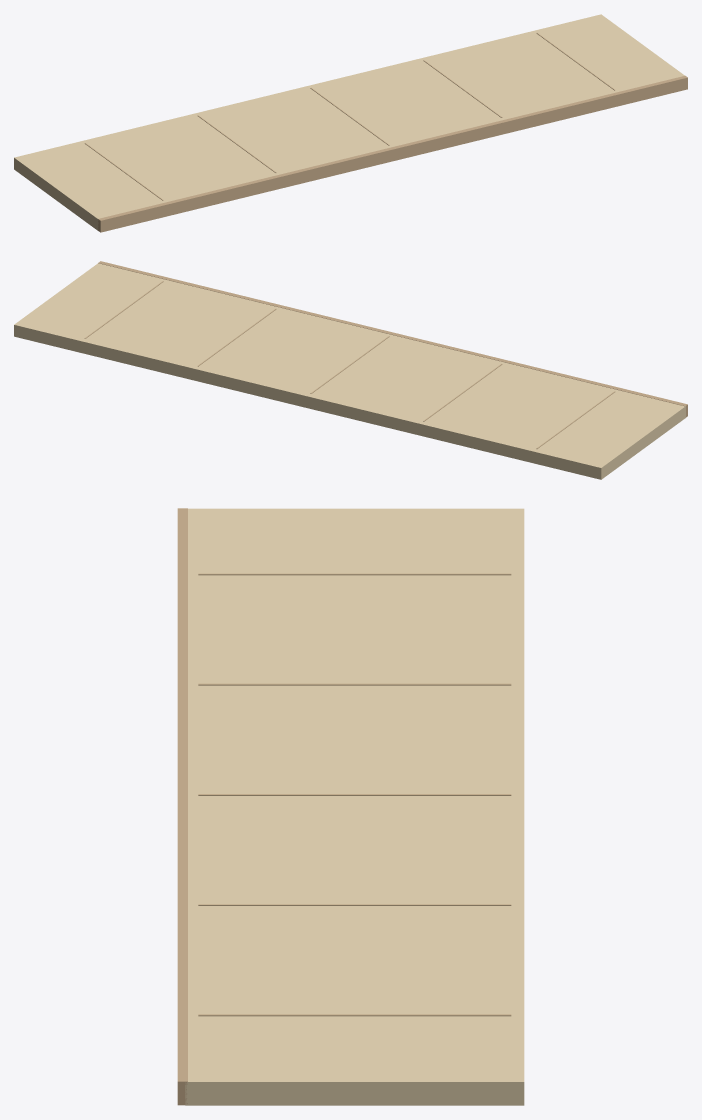
File: plataforma_jugadores.glb
3 renders of one model, top to bottom at view 1: azimuth 30°, elevation 25°; view 2: azimuth 150°, elevation 25°; view 3: azimuth 270°, elevation 25°, orthographic. The views are drawn at different scales.
Visible parts, largest first — view 1: plataforma_jugadores; view 2: plataforma_jugadores; view 3: plataforma_jugadores.
Boxes of the visible parts, x1,y1,x2,y2 form: plataforma_jugadores: (14, 14, 687, 232); plataforma_jugadores: (14, 261, 687, 479); plataforma_jugadores: (177, 508, 524, 1105).
Bounding box in the file's own units: 26 × 0.52 × 6.65.
